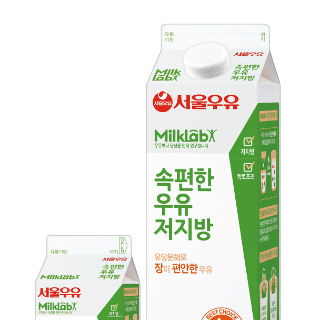milk: (145, 25, 282, 320), (33, 234, 139, 320)
